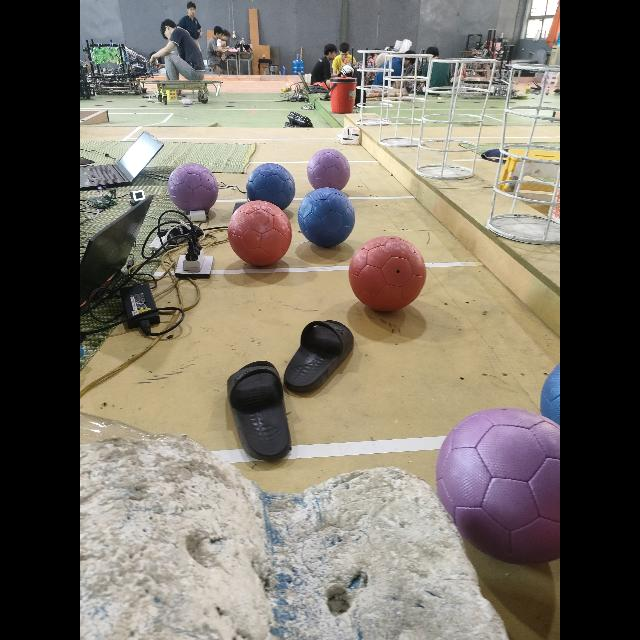B: (298, 188, 354, 246), (247, 162, 295, 210), (540, 364, 560, 426)
P: (436, 408, 560, 564), (168, 163, 218, 211), (308, 148, 350, 190)
R: (348, 236, 426, 310), (228, 200, 292, 266)
